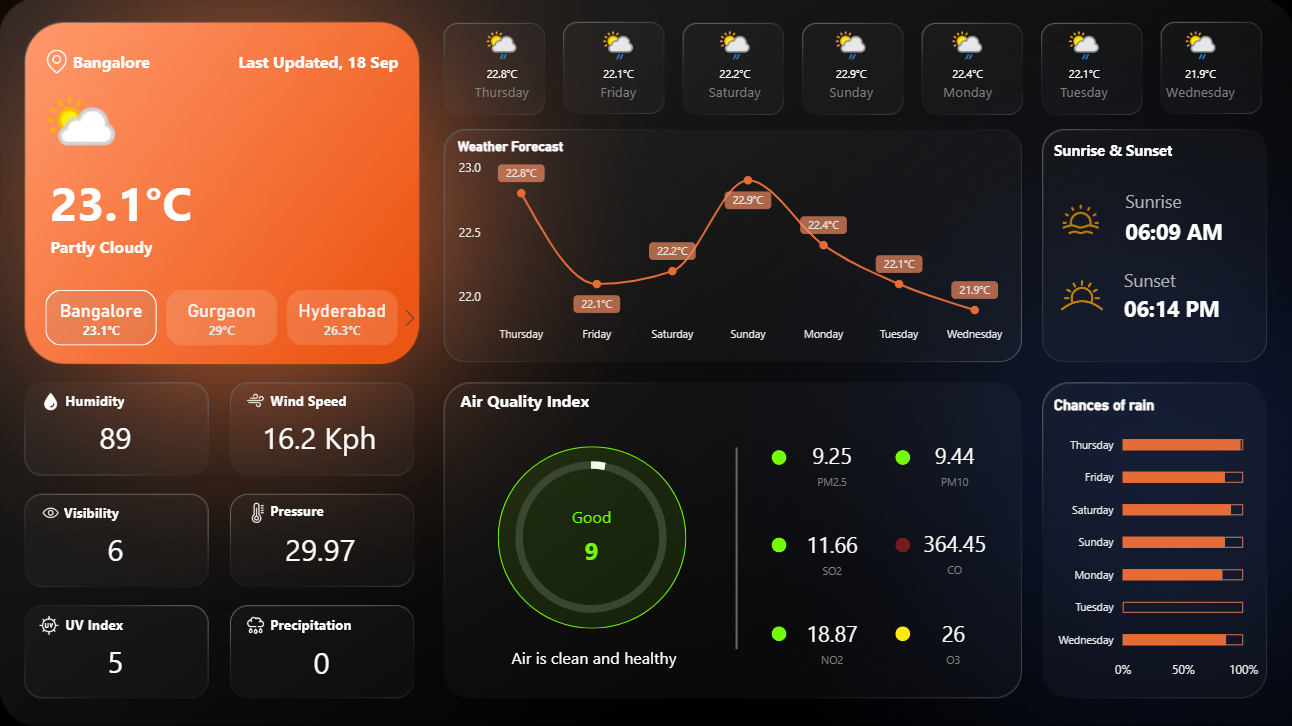

Layout of this report page (visuals, bound fields, positions):
{"tool":"powerbi","page":{"name":"Page 1","canvas":[1280,720],"ordinal":0},"visuals":[{"type":"advancedSlicerVisual","fields":{"Values":["Locations.location.name"]},"box":[20.6,281.3,400.7,65.9],"z":0},{"type":"donutChart","fields":{"Y":["Sum(Current.current.air_quality.pm10)","Table.Left_PM10_value"]},"box":[486.5,432.1,197,197],"z":1000},{"type":"shape","box":[50.8,168.2,175.6,63.1],"z":2000},{"type":"shape","box":[492.6,441.1,186.3,180.3],"z":3000},{"type":"shape","box":[50.8,227.2,351.3,32.9],"z":4000},{"type":"shape","box":[73.1,43.9,135.8,32.9],"z":5000},{"type":"shape","box":[203.1,43.9,192.1,32.9],"z":6000},{"type":"image","box":[38.8,43.9,37,32.9],"z":7000},{"type":"cardVisual","fields":{"Data":["Min(Current.current.condition.icon)"]},"box":[37.2,80.6,99.1,89.2],"z":8000},{"type":"shape","box":[65,379,135.8,32.9],"z":9000},{"type":"image","box":[37,380.1,28,32],"z":10000},{"type":"shape","box":[268,379,135.8,32.9],"z":11000},{"type":"image","box":[239.2,380.5,27.3,31],"z":12000},{"type":"shape","box":[64.4,489.5,136.3,32.2],"z":13000},{"type":"shape","box":[268,488,135.8,32.9],"z":14000},{"type":"shape","box":[65,599.5,135.8,32.9],"z":15000},{"type":"shape","box":[268,599.5,135.8,32.9],"z":16000},{"type":"image","box":[37.2,489.5,28.5,33.5],"z":17000},{"type":"image","box":[240.4,489.5,29.7,33.5],"z":18000},{"type":"image","box":[34.7,601.1,29.7,33.5],"z":19000},{"type":"image","box":[238,599.8,31,34.7],"z":20000},{"type":"card","fields":{"Values":["Sum(Current.current.humidity)"]},"box":[20.7,396.7,188,74],"z":21000},{"type":"card","fields":{"Values":["Table.wind_speed_kph"]},"box":[222,396.7,188,74],"z":22000},{"type":"card","fields":{"Values":["Sum(Current.current.vis_km)"]},"box":[20.7,506.2,188,74],"z":23000},{"type":"card","fields":{"Values":["Sum(Current.current.pressure_in)"]},"box":[223.5,506.2,188,75.5],"z":24000},{"type":"card","fields":{"Values":["Sum(Current.current.uv)"]},"box":[20.7,617.2,188,74],"z":25000},{"type":"card","fields":{"Values":["Sum(Current.current.precip_in)"]},"box":[225,617.2,188,75.5],"z":26000},{"type":"advancedSlicerVisual","fields":{"Values":["Forcast_Day.day_name"]},"box":[438,20,809.6,97],"z":27000},{"type":"lineClusteredColumnComboChart","title":"Weather Forecast","fields":{"Category":["Forcast_Day.day_name"],"Y2":["Sum(Forcast_Day.forecast.forecastday.day.avgtemp_c)"]},"box":[448.5,137.7,553.6,210.2],"z":28000},{"type":"shape","box":[1042.3,132.6,135.1,32.2],"z":29000},{"type":"shape","box":[1112.6,186.8,119,23.5],"z":30000},{"type":"shape","box":[1112.6,210.7,119,33.5],"z":31000},{"type":"shape","box":[1111.3,287.5,119,33.5],"z":32000},{"type":"shape","box":[1111.7,264,119,23.5],"z":33000},{"type":"image","box":[1041.2,194.2,55.5,45.8],"z":34000},{"type":"image","box":[1043.6,259.4,53.1,65.1],"z":35000},{"type":"hundredPercentStackedBarChart","title":"Chances of rain","fields":{"Y":["Sum(Forcast_Day.forecast.forecastday.day.daily_chance_of_rain)","Table.Left_value_rain"],"Category":["Forcast_Day.day_name"]},"box":[1037,391,212,289],"z":36000},{"type":"shape","box":[456.1,379.2,157.4,33.5],"z":37000},{"type":"card","fields":{"Values":["Sum(Current.current.air_quality.pm10)"]},"box":[899.6,430.1,88,58.2],"z":38000},{"type":"card","fields":{"Values":["Sum(Current.current.air_quality.pm2_5)"]},"box":[778.5,430.1,88,58.2],"z":39000},{"type":"card","fields":{"Values":["Sum(Current.current.air_quality.o3)"]},"box":[898.3,604.8,88,58.2],"z":40000},{"type":"card","fields":{"Values":["Sum(Current.current.air_quality.so2)"]},"box":[778.5,516.8,88,58.2],"z":41000},{"type":"card","fields":{"Values":["Sum(Current.current.air_quality.no2)"]},"box":[778.5,604.8,88,58.2],"z":42000},{"type":"card","fields":{"Values":["Sum(Current.current.air_quality.co)"]},"box":[899.6,515.6,88,58.2],"z":43000},{"type":"shape","box":[763.1,444.9,14.9,14.9],"z":44000},{"type":"shape","box":[763.1,530.4,14.9,14.9],"z":45000},{"type":"shape","box":[763.1,618.4,14.9,14.9],"z":46000},{"type":"shape","box":[884.7,444.9,14.9,14.9],"z":47000},{"type":"shape","box":[884.7,530.4,14.9,14.9],"z":48000},{"type":"shape","box":[884.7,618.4,14.9,14.9],"z":49000},{"type":"shape","box":[705.4,441.9,47.1,199.5],"z":50000},{"type":"shape","box":[453.6,623.7,269,51.9],"z":51000},{"type":"card","fields":{"Values":["Sum(Current.current.air_quality.pm10)"]},"box":[516.8,498.6,136.3,71.9],"z":52000}]}

Visuals, with their boxes in screenshot pixels (x1, y1, x2, y2), scaled from the page's 1280x720 canvas onto the 1292x726 screenshot:
advancedSlicerVisual - Locations.location.name: 21/284/425/350
donutChart - Sum(Current.current.air_quality.pm10) x Table.Left_PM10_value: 491/436/690/634
shape: 51/170/229/233
shape: 497/445/685/627
shape: 51/229/406/262
shape: 74/44/211/77
shape: 205/44/399/77
image: 39/44/77/77
cardVisual - Min(Current.current.condition.icon): 38/81/138/171
shape: 66/382/203/415
image: 37/383/66/416
shape: 271/382/408/415
image: 241/384/269/415
shape: 65/494/203/526
shape: 271/492/408/525
shape: 66/604/203/638
shape: 271/604/408/638
image: 38/494/66/527
image: 243/494/273/527
image: 35/606/65/640
image: 240/605/272/640
card - Sum(Current.current.humidity): 21/400/211/475
card - Table.wind_speed_kph: 224/400/414/475
card - Sum(Current.current.vis_km): 21/510/211/585
card - Sum(Current.current.pressure_in): 226/510/415/587
card - Sum(Current.current.uv): 21/622/211/697
card - Sum(Current.current.precip_in): 227/622/417/698
advancedSlicerVisual - Forcast_Day.day_name: 442/20/1259/118
"Weather Forecast" lineClusteredColumnComboChart: 453/139/1011/351
shape: 1052/134/1188/166
shape: 1123/188/1243/212
shape: 1123/212/1243/246
shape: 1122/290/1242/324
shape: 1122/266/1242/290
image: 1051/196/1107/242
image: 1053/262/1107/327
"Chances of rain" hundredPercentStackedBarChart: 1047/394/1261/686
shape: 460/382/619/416
card - Sum(Current.current.air_quality.pm10): 908/434/997/492
card - Sum(Current.current.air_quality.pm2_5): 786/434/875/492
card - Sum(Current.current.air_quality.o3): 907/610/996/669
card - Sum(Current.current.air_quality.so2): 786/521/875/580
card - Sum(Current.current.air_quality.no2): 786/610/875/669
card - Sum(Current.current.air_quality.co): 908/520/997/579
shape: 770/449/785/464
shape: 770/535/785/550
shape: 770/624/785/639
shape: 893/449/908/464
shape: 893/535/908/550
shape: 893/624/908/639
shape: 712/446/760/647
shape: 458/629/729/681
card - Sum(Current.current.air_quality.pm10): 522/503/659/575
